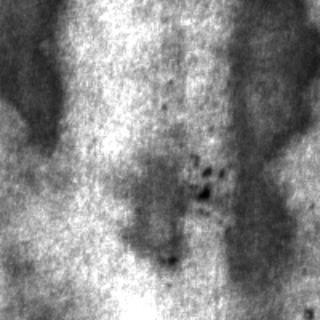inclusion: (196, 156, 224, 200)
patches: (222, 0, 318, 286), (0, 0, 66, 156), (118, 154, 184, 264)
